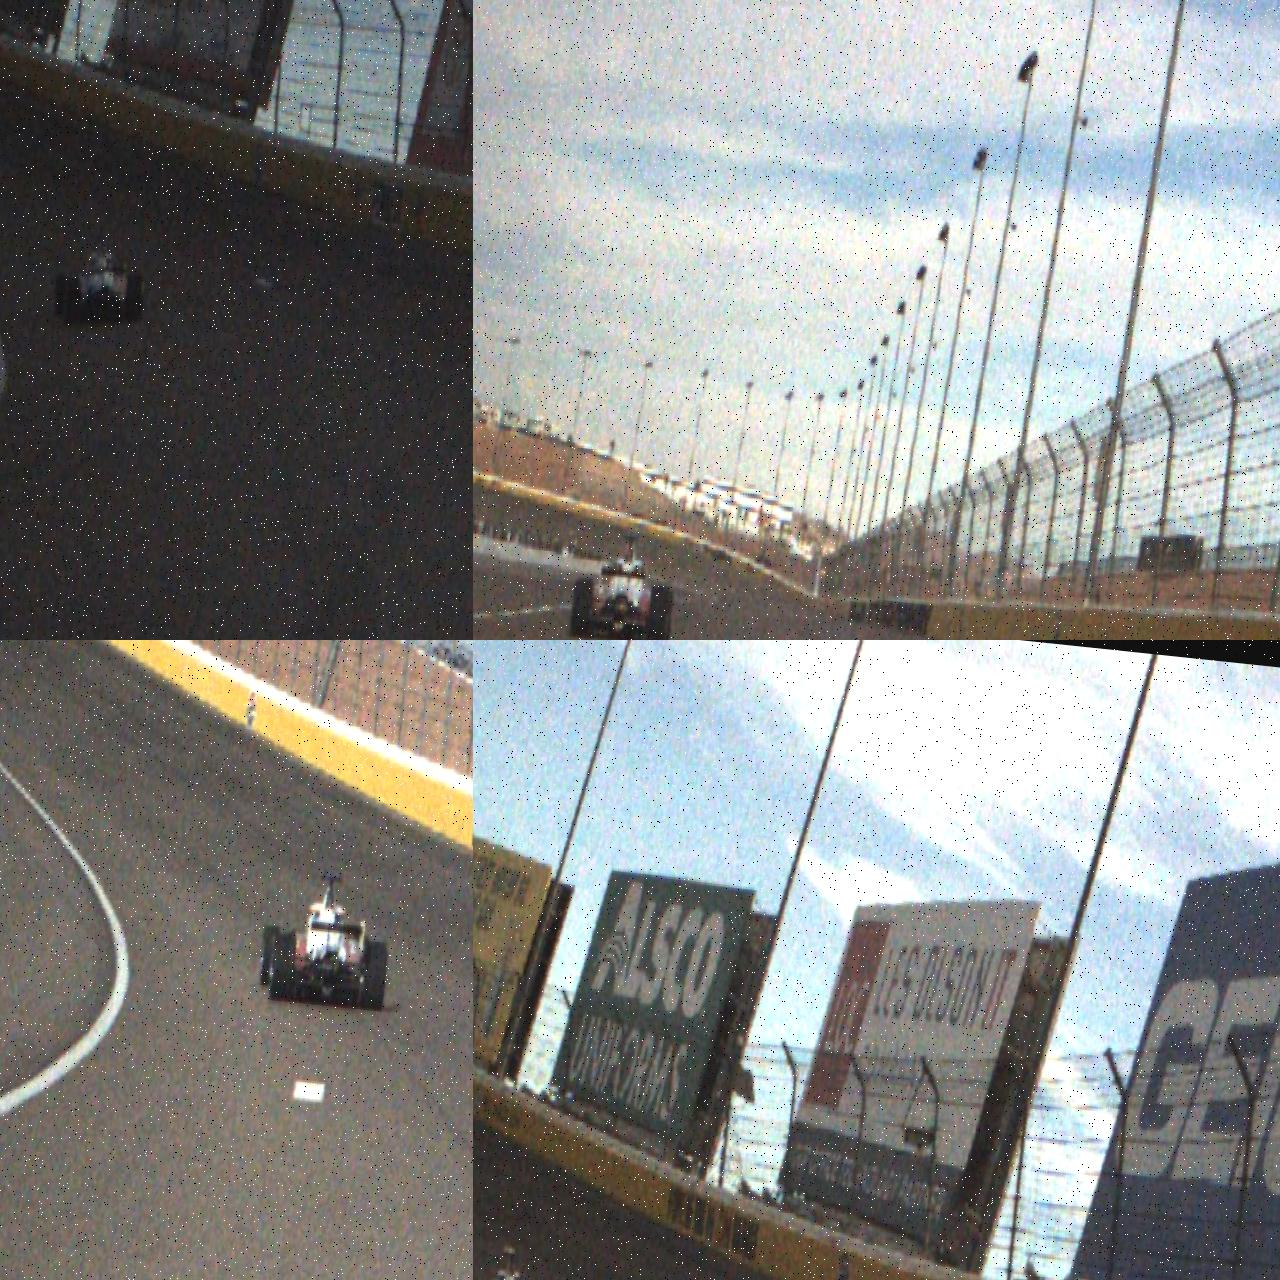AV: (257, 866, 396, 1010), (569, 528, 682, 640), (52, 228, 151, 334), (473, 1241, 557, 1280)
Wheel: (360, 941, 390, 1011), (268, 932, 298, 1001), (258, 924, 282, 989), (569, 578, 594, 640), (645, 585, 671, 640), (123, 274, 146, 327), (62, 279, 82, 327), (53, 273, 69, 318)
